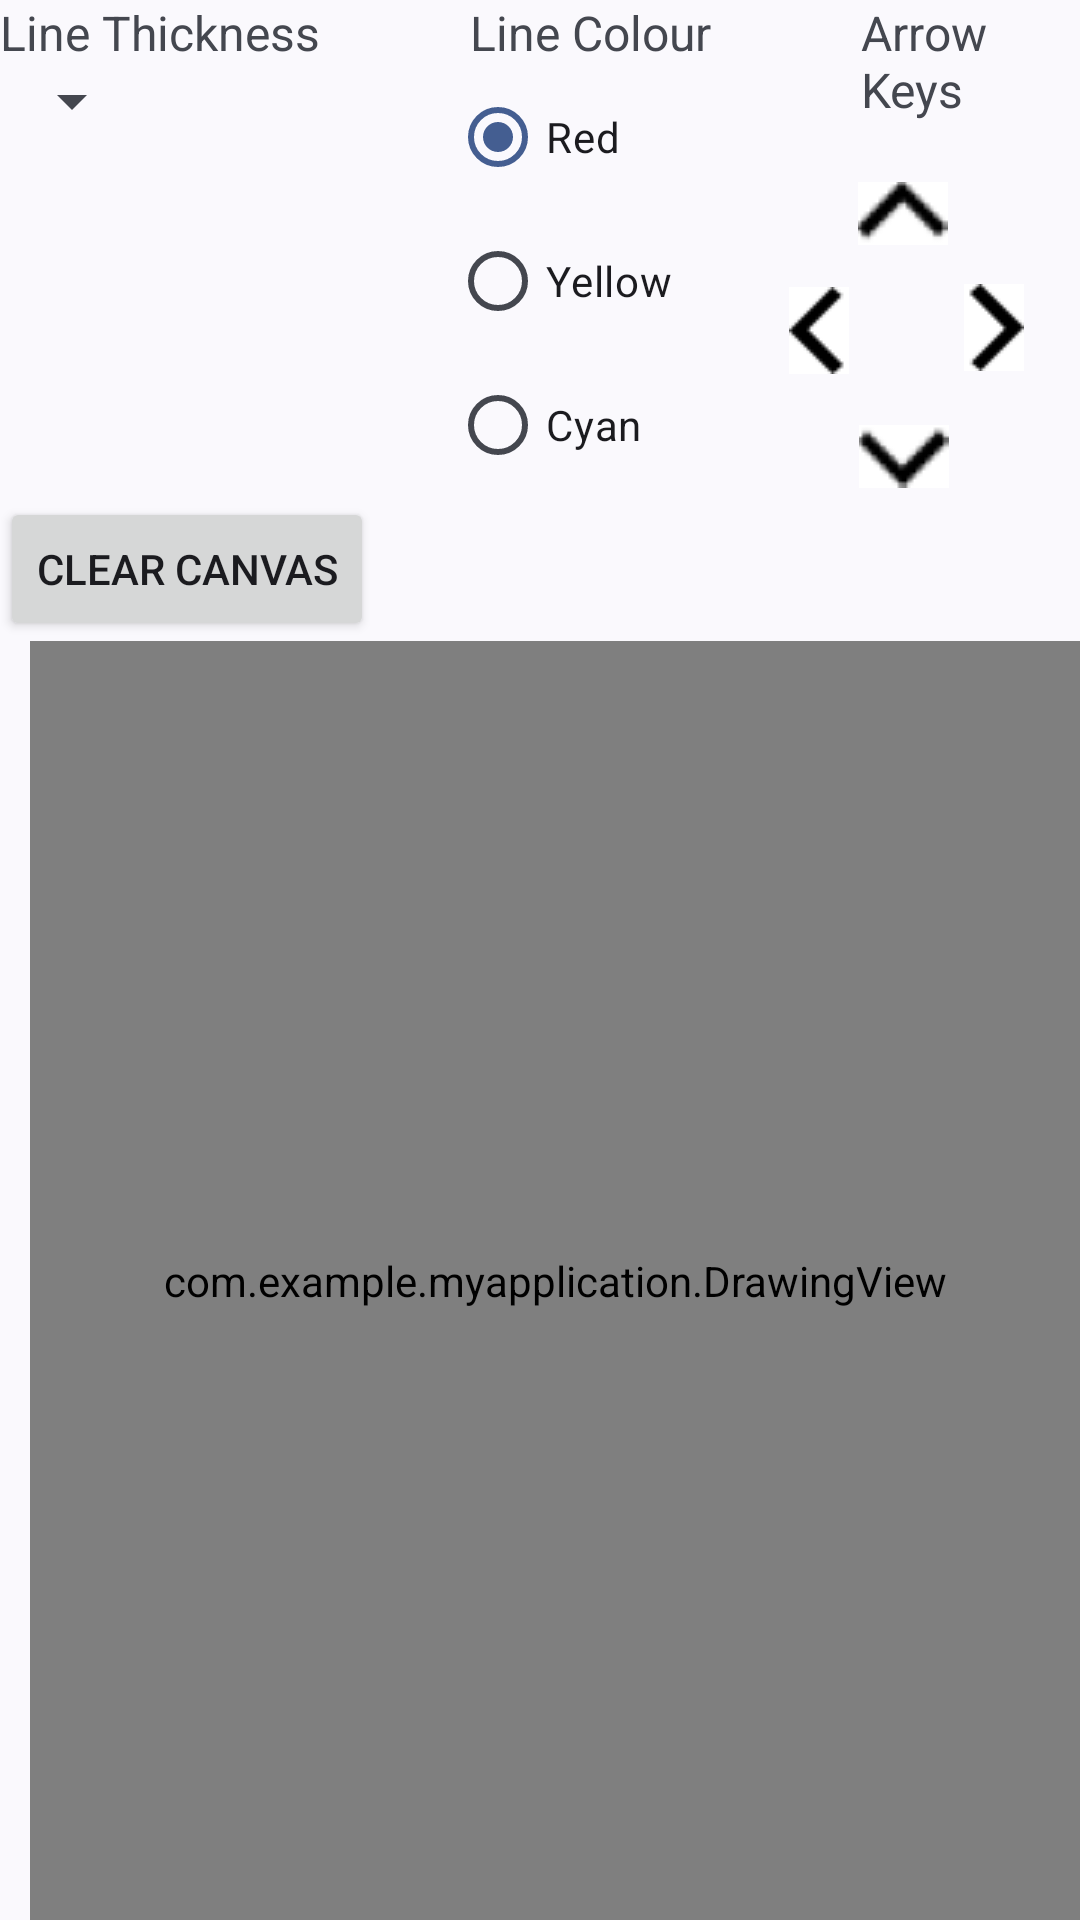

Icons on this 1080px x 1920px Android screen, each with the point to tap as (x,y):
down arrow: (904,458)
left arrow: (816,330)
right arrow: (996,327)
up arrow: (903,211)
